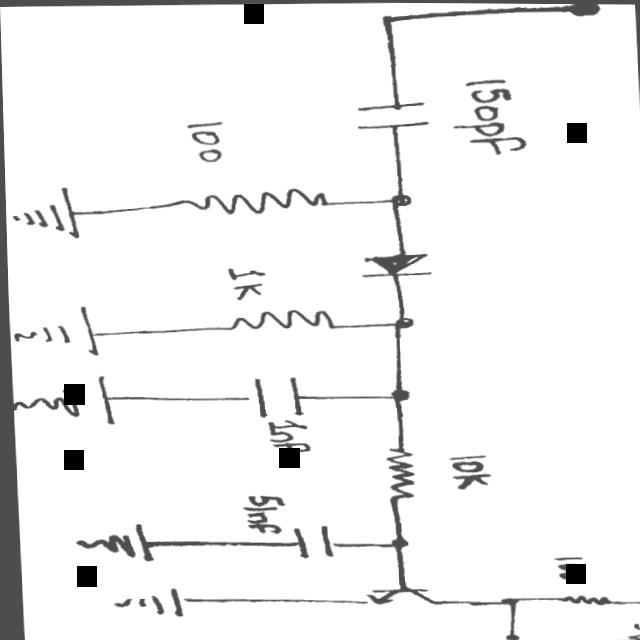capacitor: (354, 97, 432, 130), (242, 374, 301, 416), (288, 524, 333, 556)
diode: (356, 248, 432, 278)
ground: (10, 371, 120, 427), (8, 304, 99, 358), (4, 184, 84, 240), (71, 519, 153, 561), (97, 586, 185, 617)
junction: (377, 384, 410, 404), (382, 190, 412, 208), (370, 12, 403, 27), (387, 315, 416, 330), (382, 534, 407, 550), (492, 594, 517, 607)
resistor: (182, 184, 333, 217), (217, 303, 341, 334), (380, 444, 416, 500), (552, 593, 610, 604)
source: (629, 584, 640, 619)
terminal: (564, 3, 602, 16), (498, 630, 516, 640)
text: (450, 75, 529, 155), (182, 118, 229, 164), (236, 492, 286, 533), (223, 263, 273, 299), (444, 451, 490, 490), (264, 418, 311, 453), (547, 553, 586, 582), (619, 620, 640, 638)
transistor: (354, 582, 438, 607)
